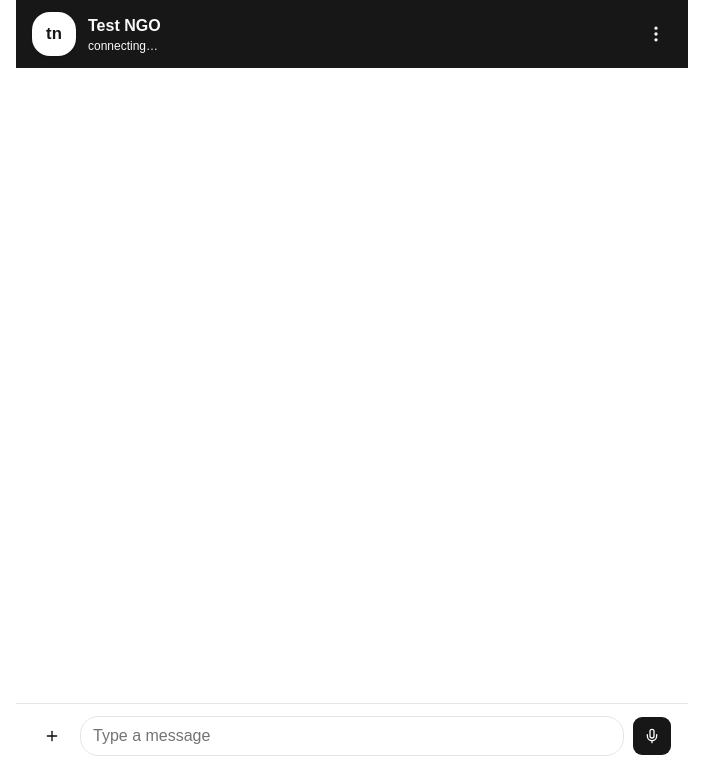
Scenario: <Chat /> media, voice and location composers › opens the picker for camera with the right file types
The image size is (705, 768).
Expected: the text box with test id "composerInput" is shown, [80,716,624,756]
Step 1. Click the button with test id "attachButton" → (52, 736), box [32,716,72,756]
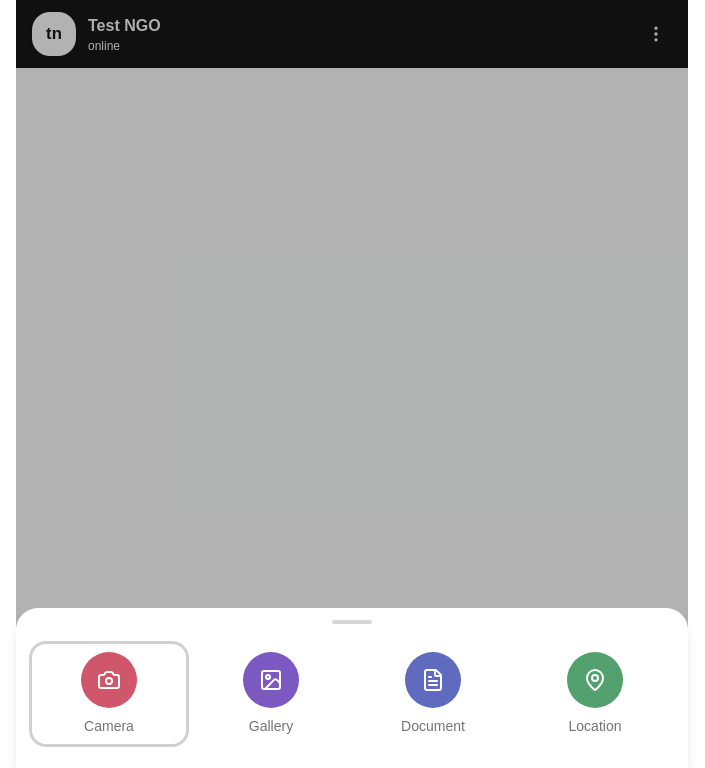
Step 2. Click the menu item "Camera" → (109, 694), box [32,644,186,744]
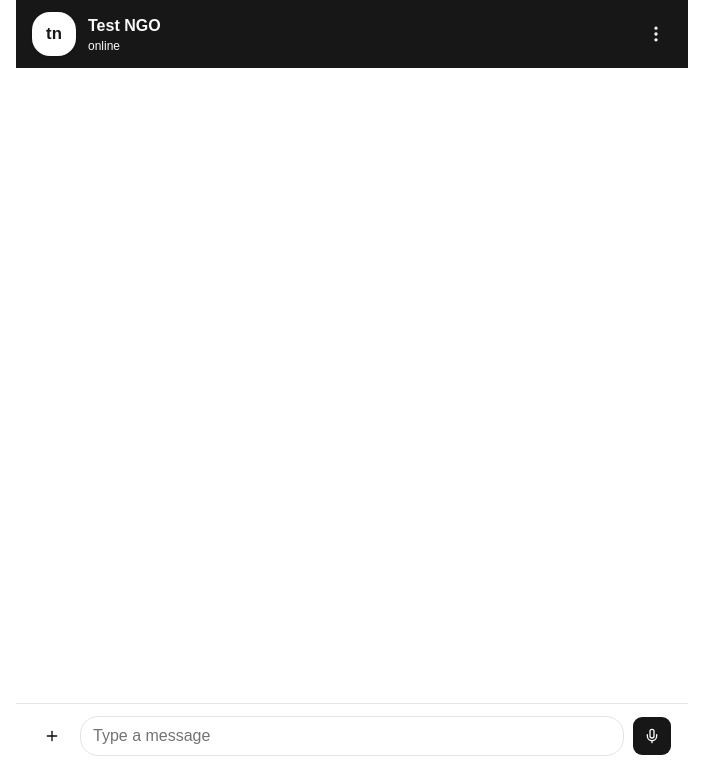
Result: the menu with test id "attachMenu" is gone
